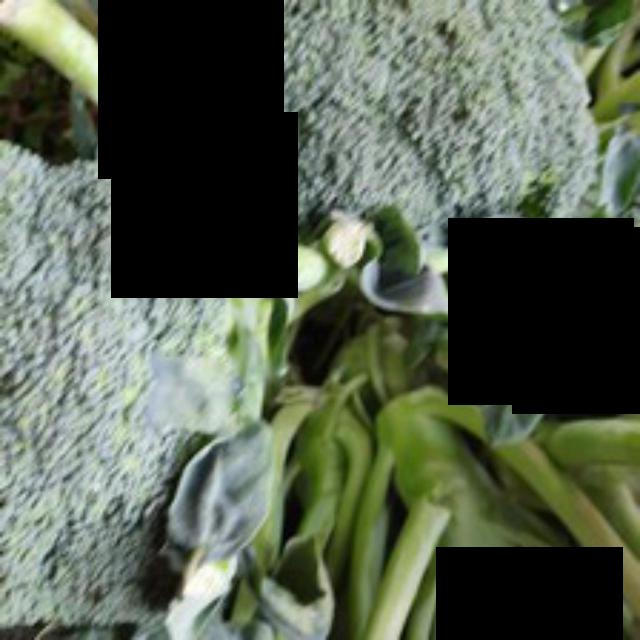broccoli: (241, 0, 623, 254)
